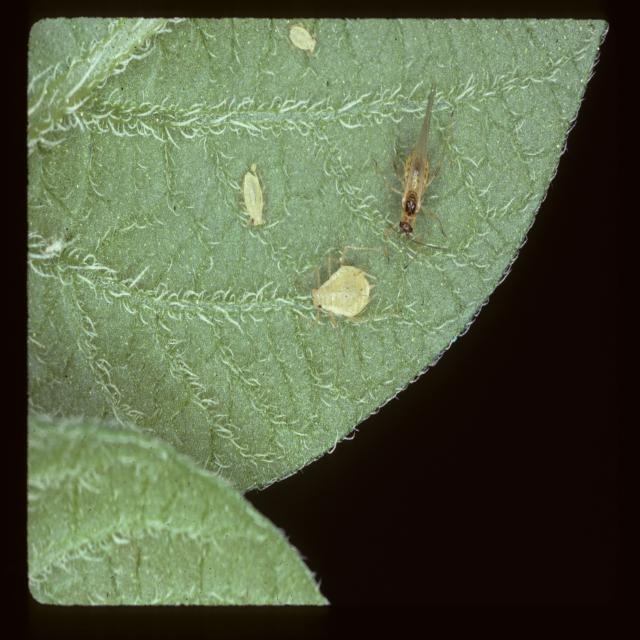Aphid-Grown-: (310, 245, 390, 334), (228, 155, 276, 234), (275, 16, 338, 63)
Aphid-Grown-have wings-: (384, 68, 451, 248)
